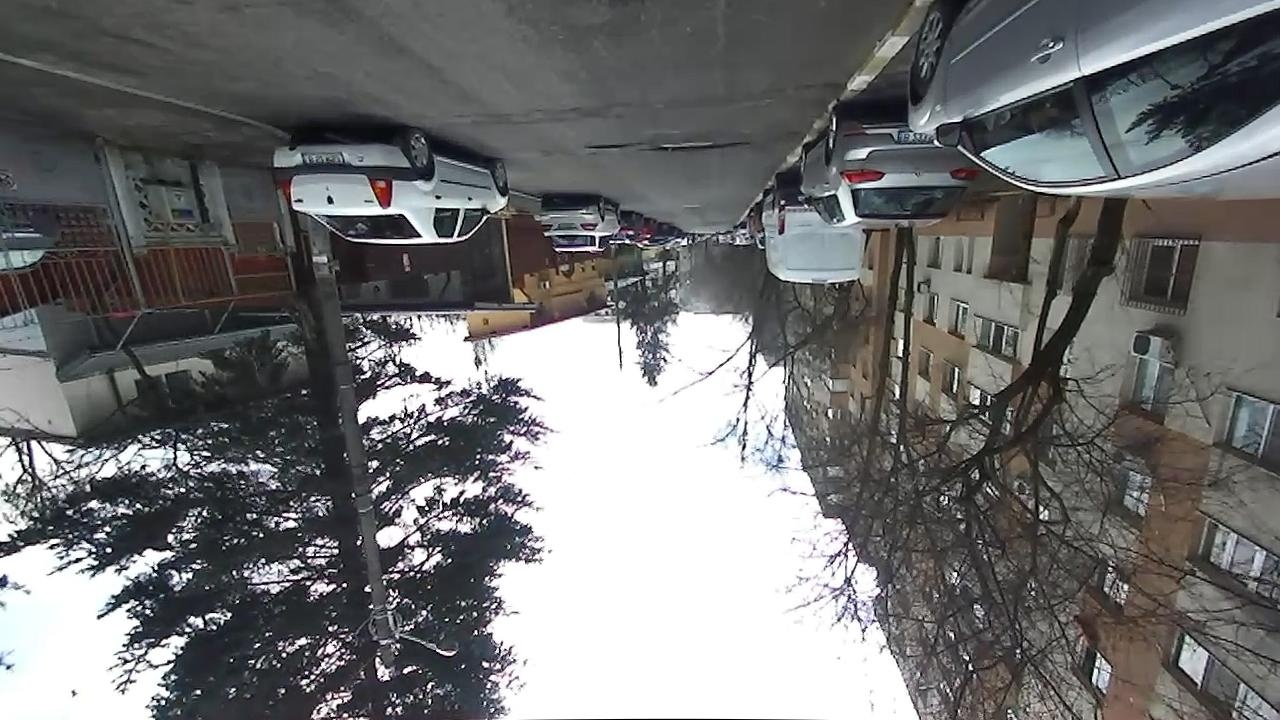pothole: (658, 141, 748, 152), (586, 141, 636, 148)
